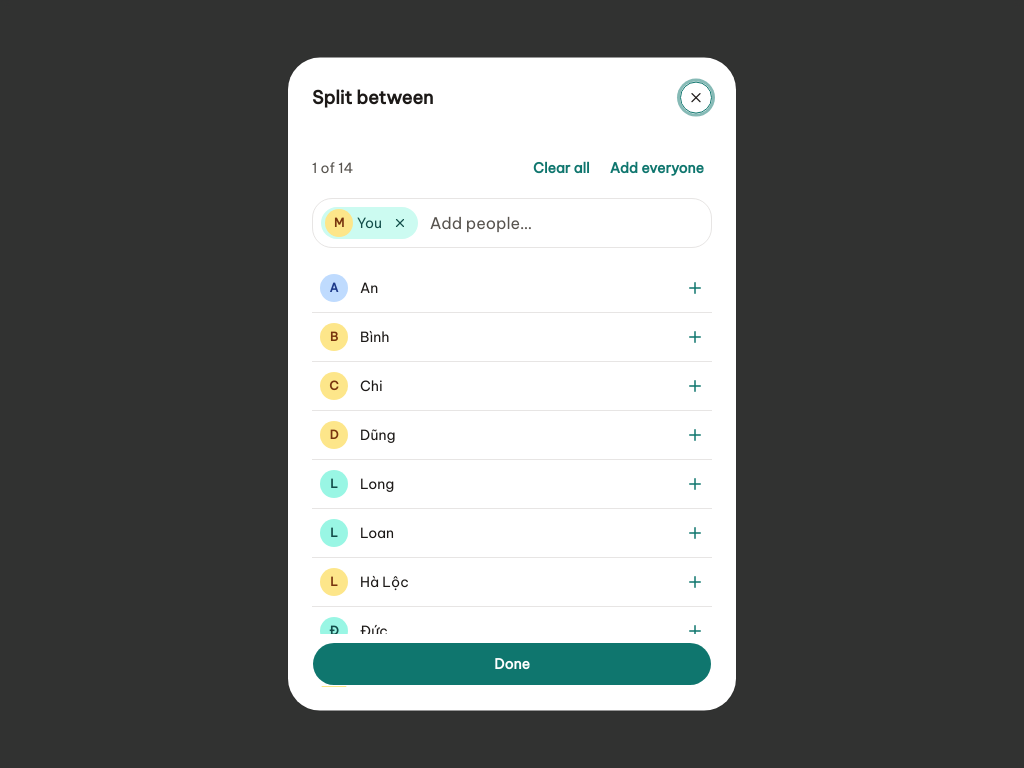
it: SplitPeopleSheet, searching › a suggestion becomes a chip, clears the text and keeps focus
Type "lo" into the field labelled "Add people". click: (564, 223)
box: 426,207 -> 703,239
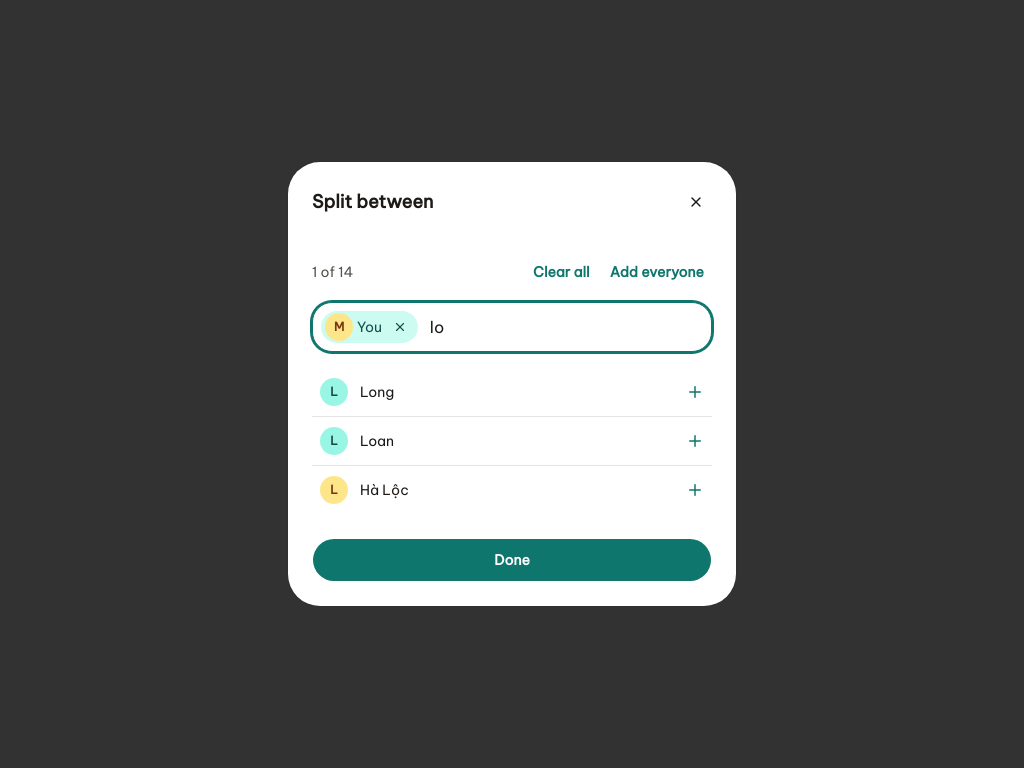
Click the button with aria-label "Add Long". click: (377, 392)
box: 312,368 -> 712,416
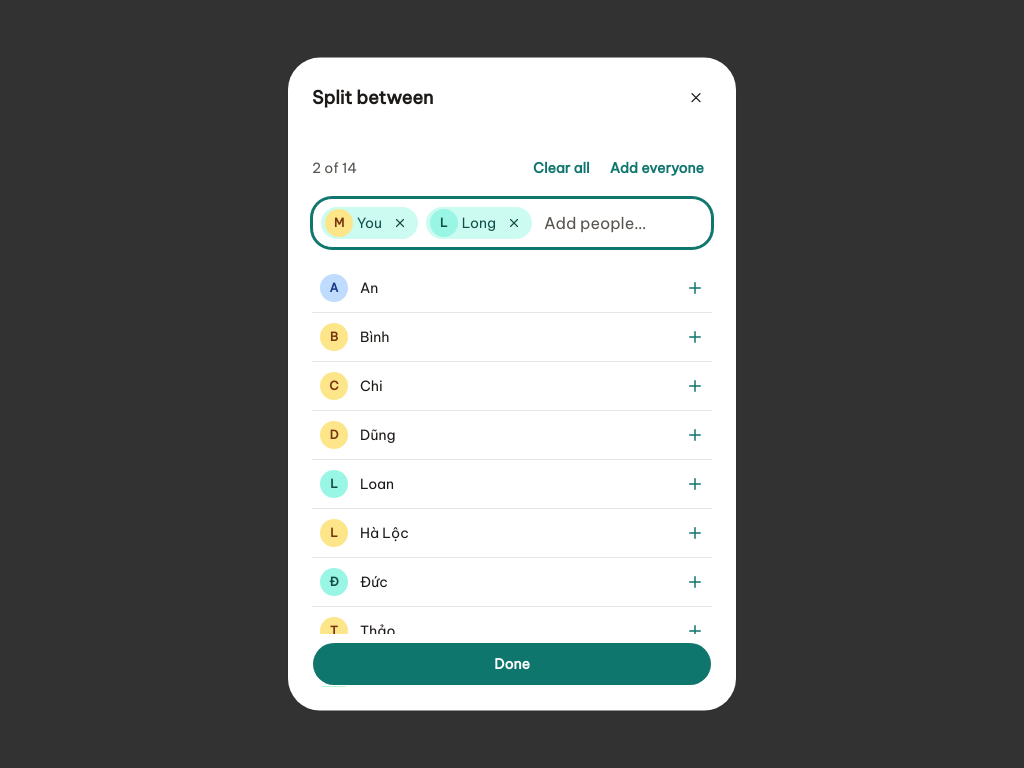
Expected: the button named "Remove Long" is shown, 500,209 -> 528,237
Expected: the field labelled "Add people" is empty, 540,207 -> 703,239
